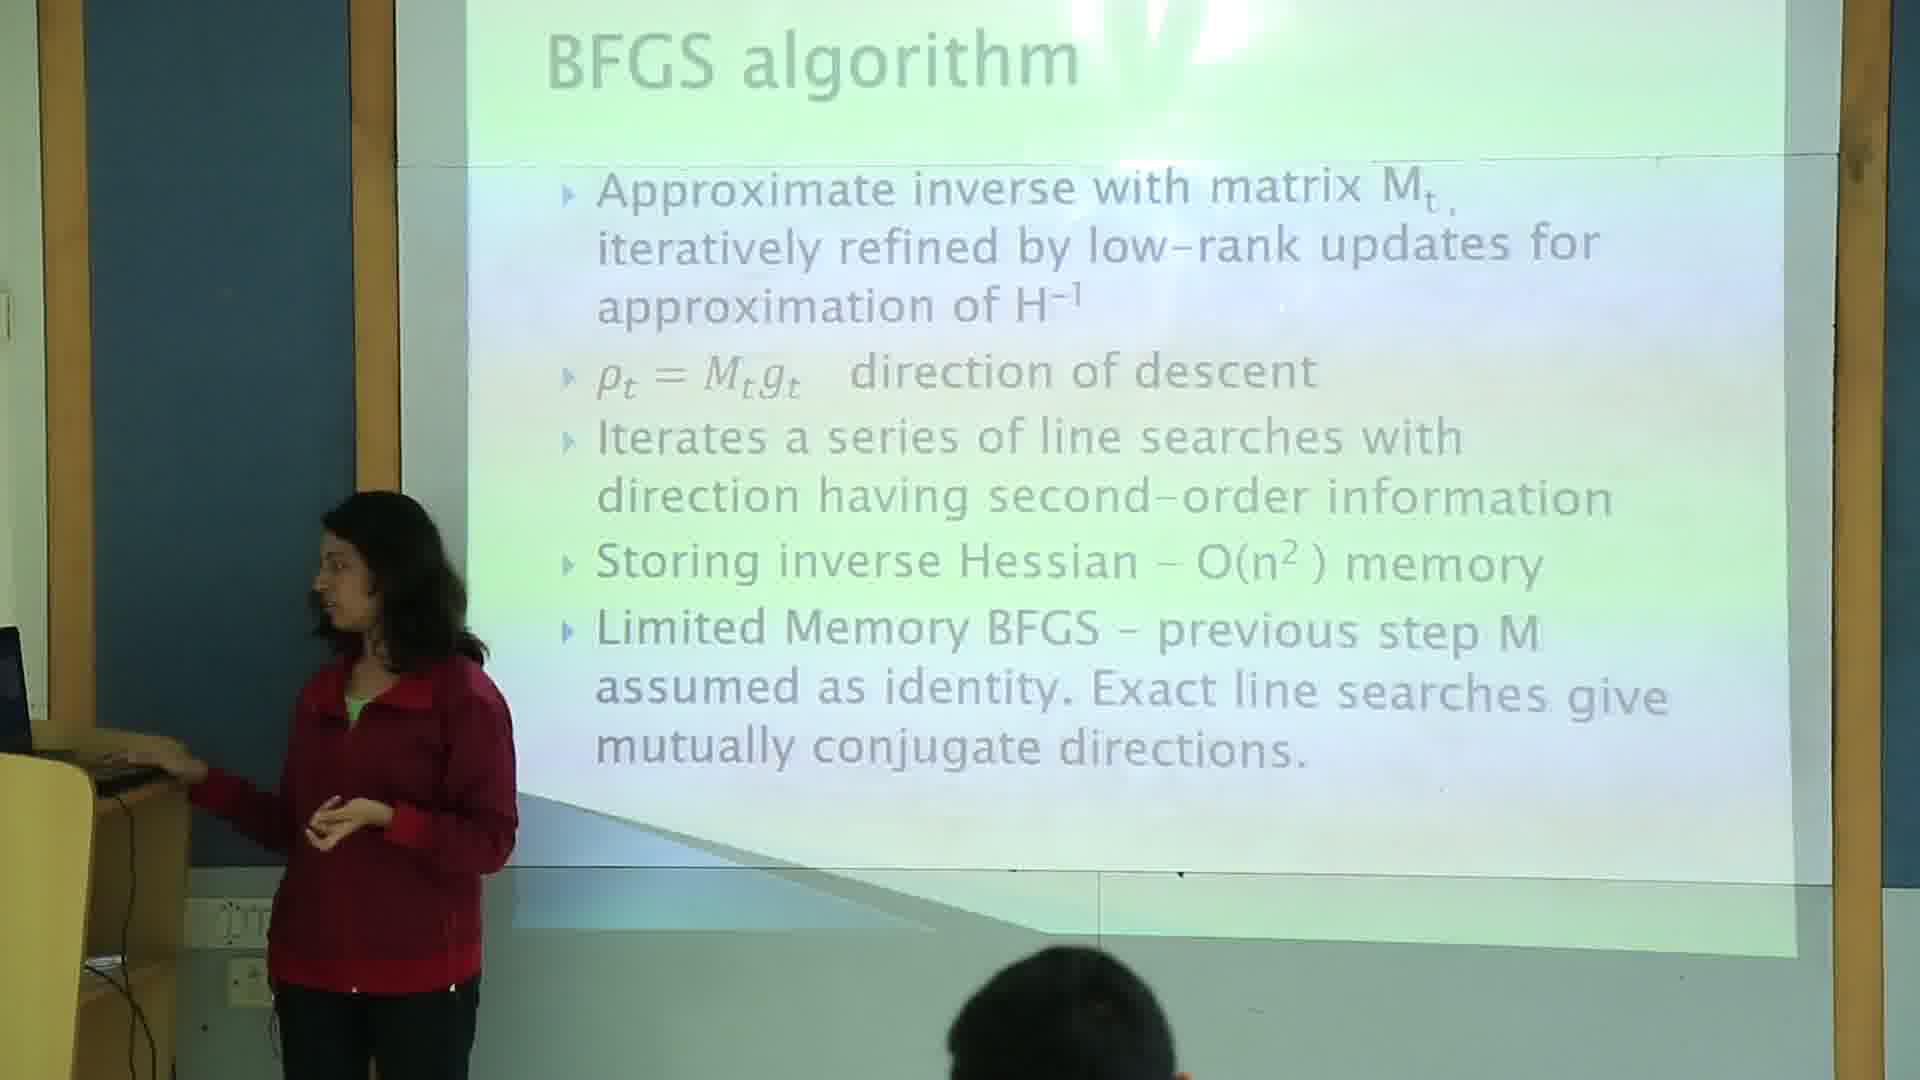eq: (589, 349, 814, 411)
